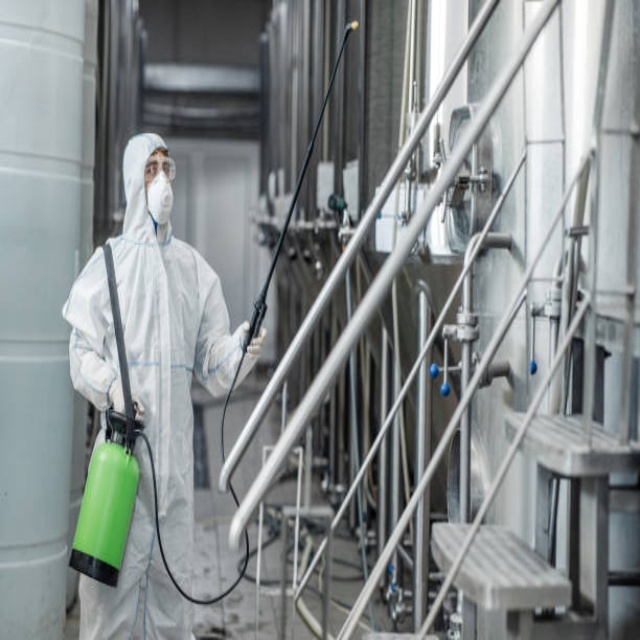Gafas: (145, 161, 175, 180)
Guantes: (108, 381, 144, 420), (238, 319, 266, 362)
Mascara: (147, 173, 174, 226)
